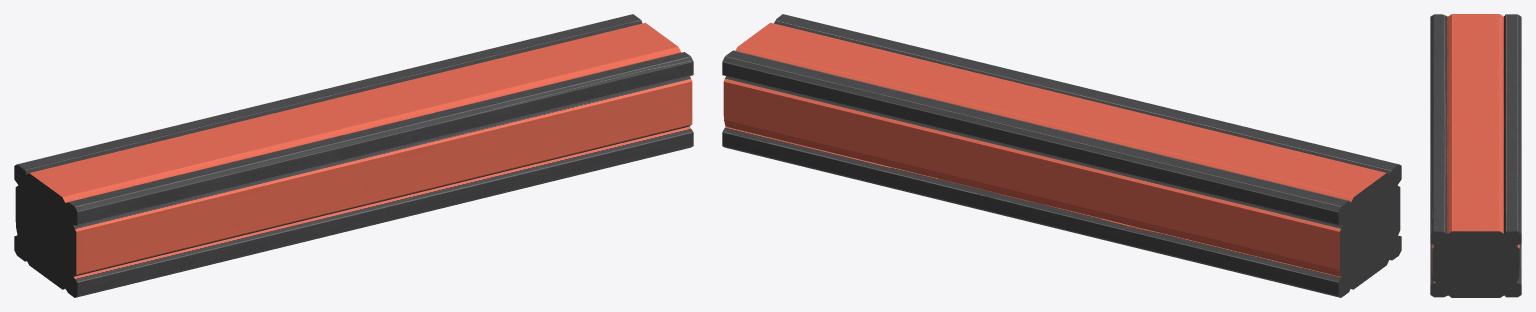
File: edge_coral.glb
3 renders of one model, left to right at view 1: azimuth 30°, elevation 25°; view 2: azimuth 150°, elevation 25°; view 3: azimuth 270°, elevation 25°, orthographic. The views are drawn at different scales.
Parts seen in each view (by area): view 1: edge_coral; view 2: edge_coral; view 3: edge_coral.
Boxes of the visible parts, bbox=[...] form: edge_coral: bbox=[14, 14, 693, 297]; edge_coral: bbox=[722, 14, 1401, 297]; edge_coral: bbox=[1430, 14, 1521, 297].
Bounding box in the file's own units: 2.8 × 0.4016 × 0.4982.
Materials: 1 (1 with a texture image).
